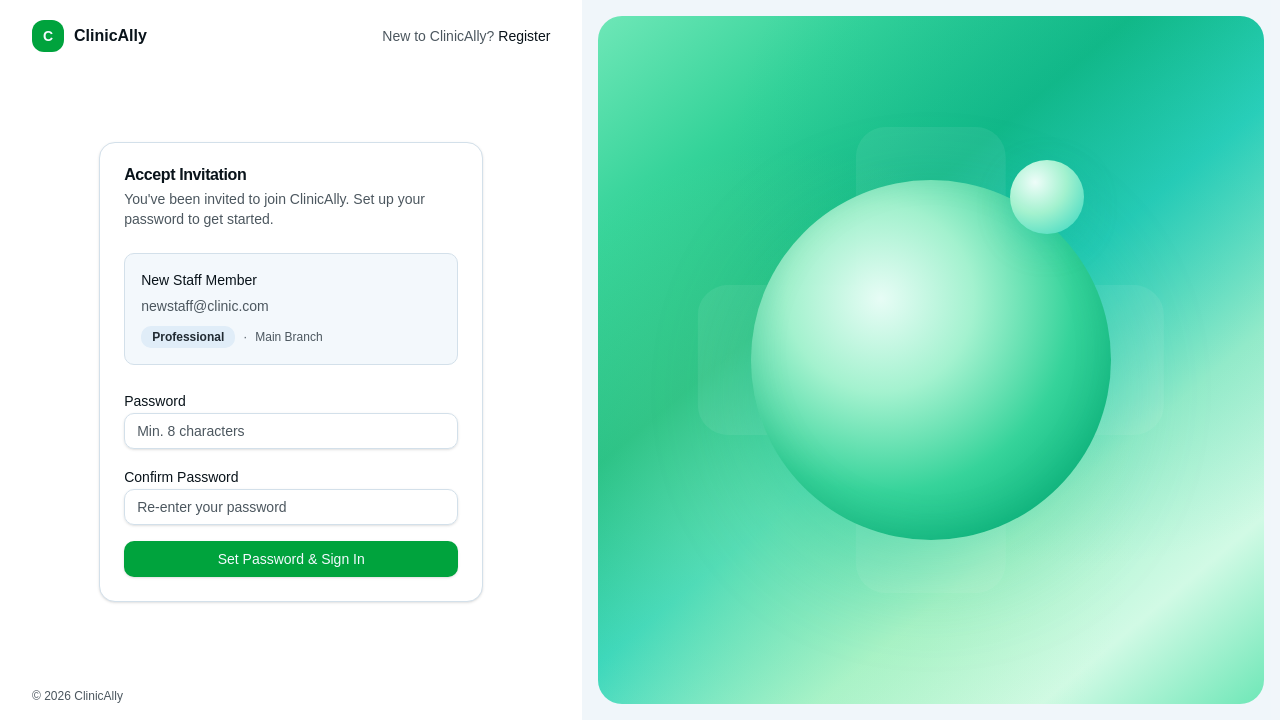
Scenario: InviteAcceptPage — password form › shows error when passwords do not match
Type "Password123" into the password field labelled "Password" at (291, 431), box [124,413,458,449]
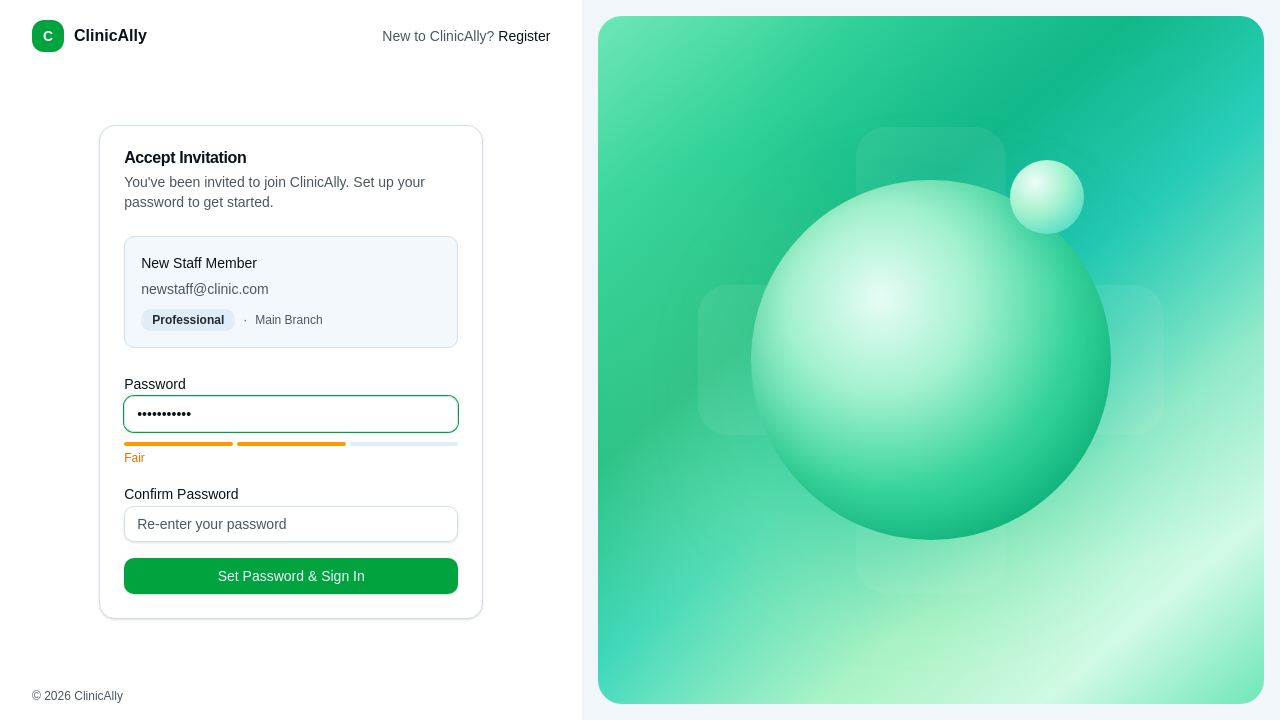
Type "Different123" into the password field labelled "Confirm Password" at (291, 524), box [124,506,458,542]
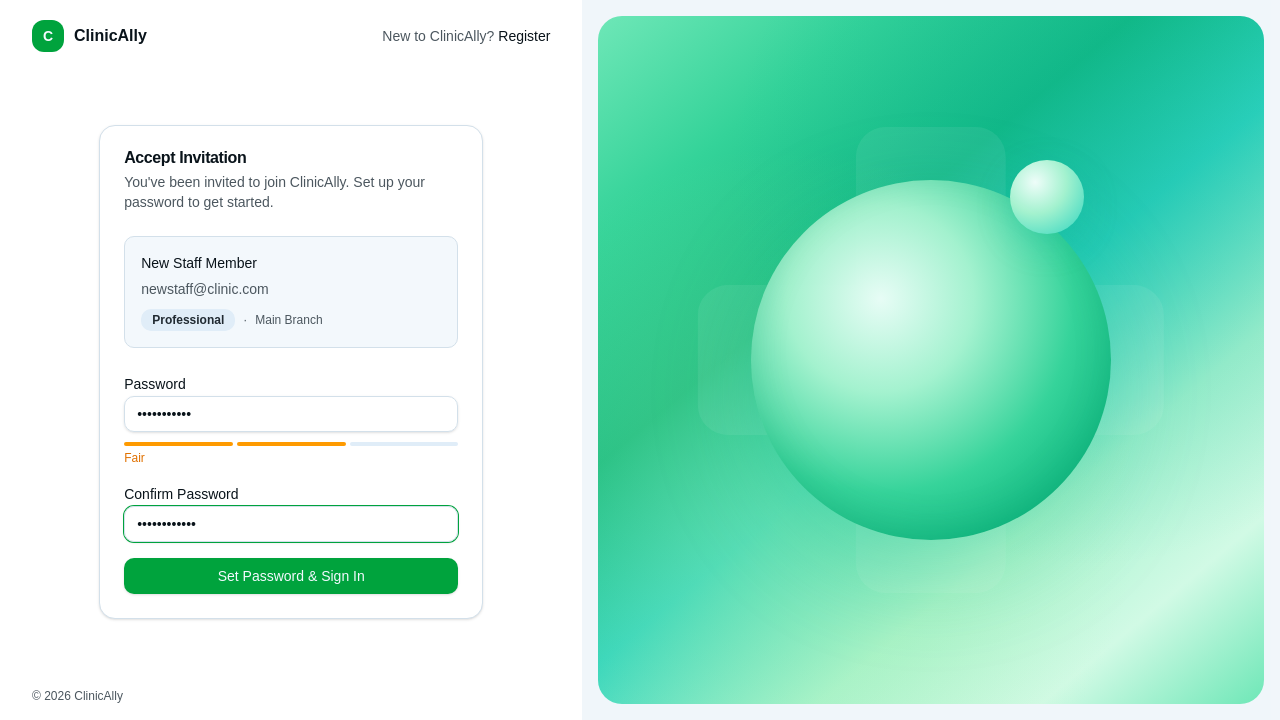
Click the button "Set Password & Sign In" at (291, 576), box [124,558,458,594]
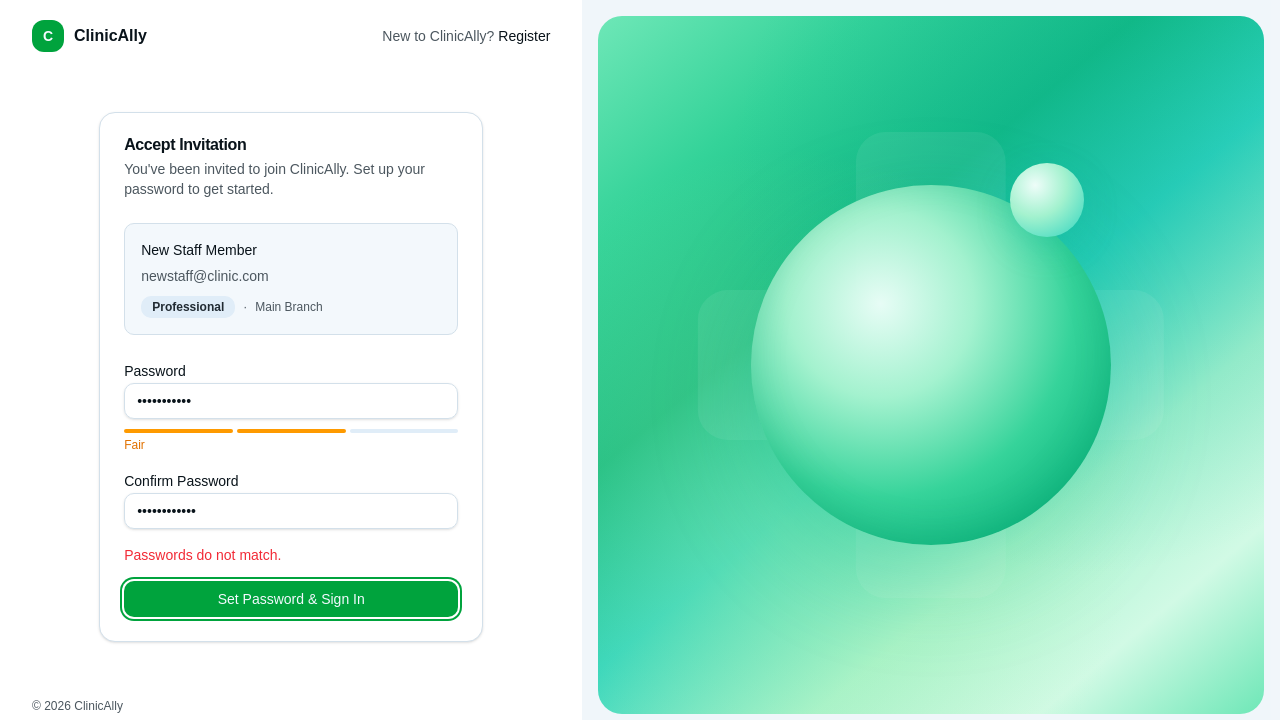
expect the message shows "do not match": met, box [124,547,281,563]
